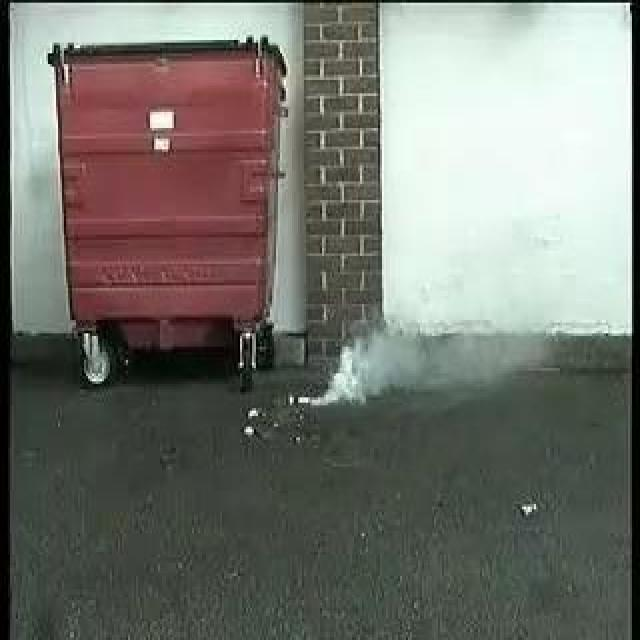Smoke: (313, 315, 437, 405)
